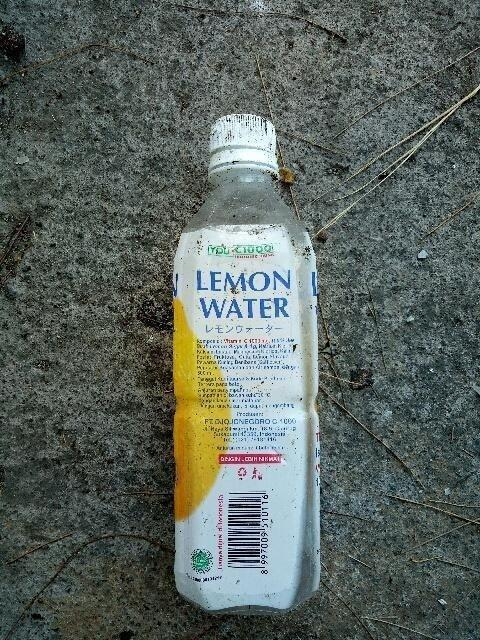bottle-plastic: (168, 108, 325, 619)
